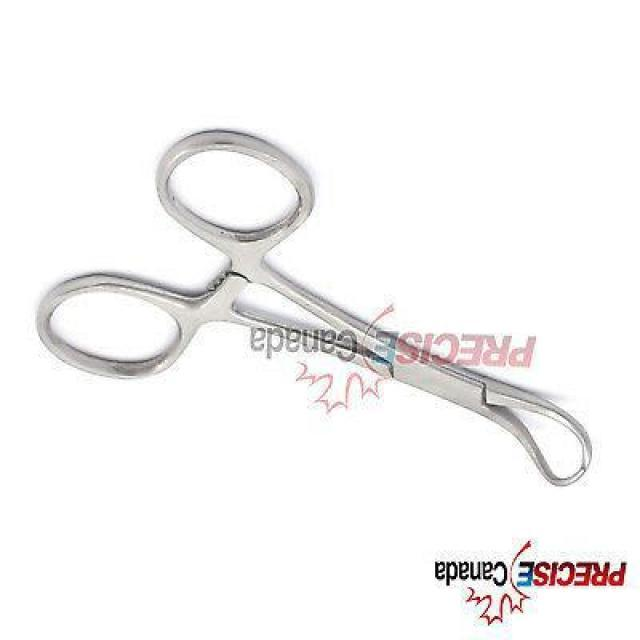Towel_clip: (32, 121, 600, 492)
